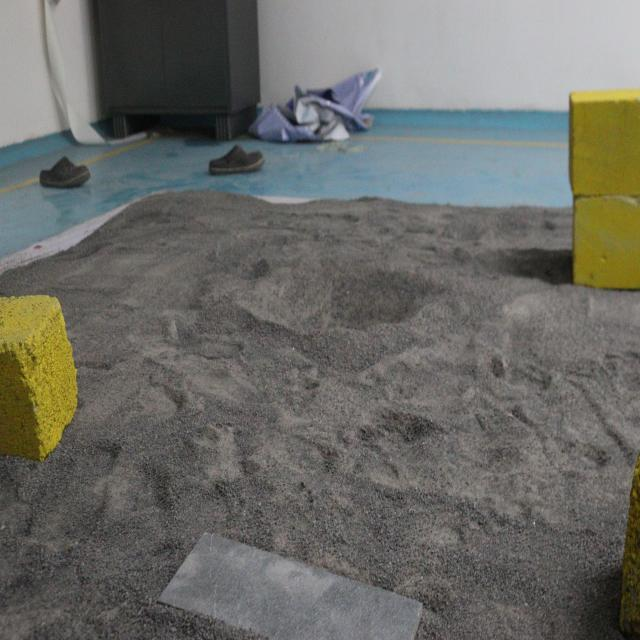box: (0, 276, 78, 470)
crater: (233, 234, 448, 358)
